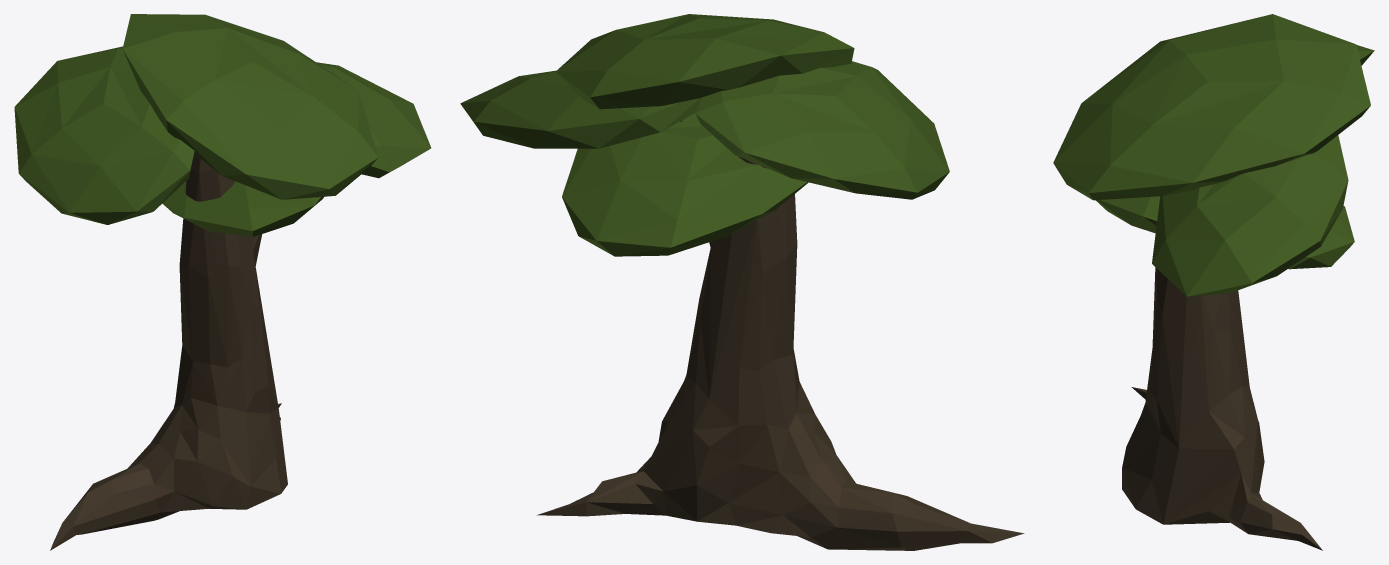
File: SM_tree_b_05.fbx
The picture shows the model from 3 angles, left to right: view 1: azimuth 30°, elevation 25°; view 2: azimuth 150°, elevation 25°; view 3: azimuth 270°, elevation 25°; orthographic projection. The views are drawn at different scales.
Visible parts, largest first — view 1: Object215; view 2: Object215; view 3: Object215.
Boxes of the visible parts, <box> form: Object215: <box>14,14,431,550</box>; Object215: <box>460,14,1024,550</box>; Object215: <box>1053,14,1374,550</box>.
Bounding box in the file's own units: 268 × 167 × 270.
